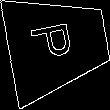P_E: (32, 22, 83, 68)
